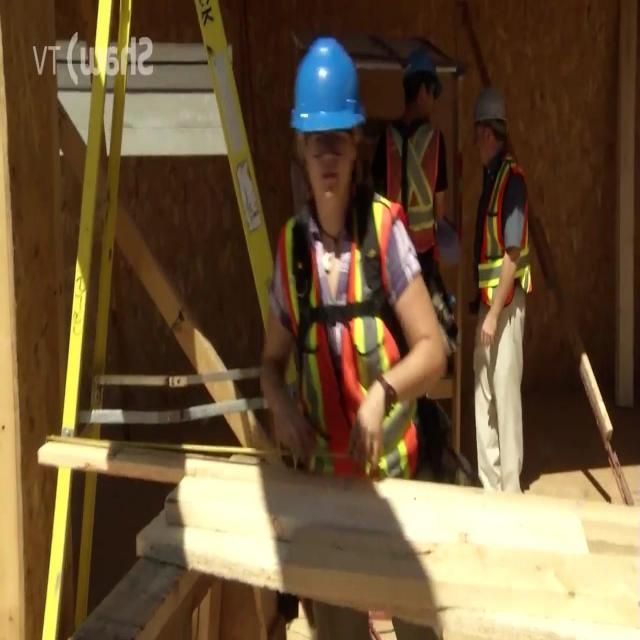reflective_jacket: (255, 191, 432, 494), (466, 150, 544, 352), (378, 109, 454, 281)
safety_helmet: (281, 25, 376, 153), (391, 38, 448, 105), (466, 76, 517, 146)
